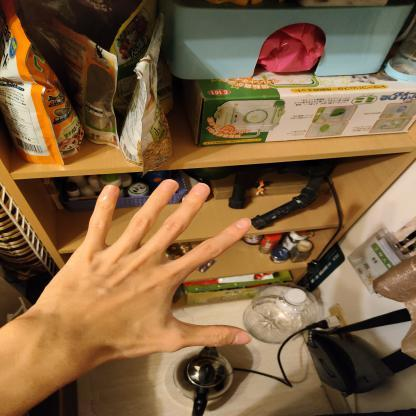bare_hand: (31, 176, 264, 376)
